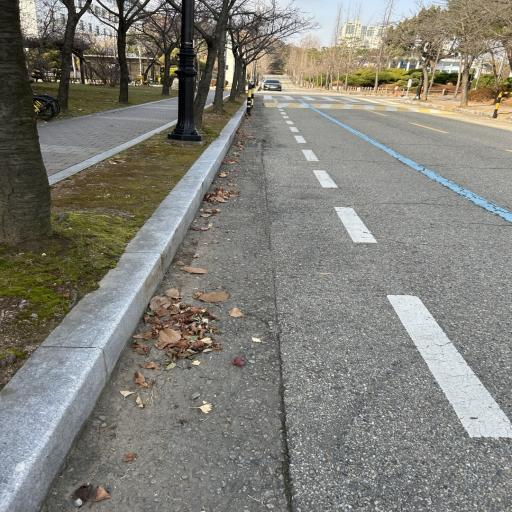debris: (237, 141, 244, 146)
drain: (236, 142, 260, 147)
